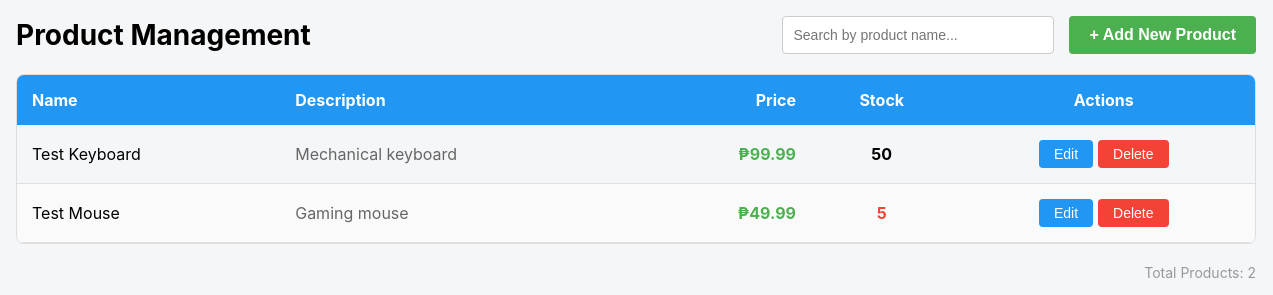
Test: ProductManagement Component › search filters products by name
This screenshot has width=1273, height=295.
Expected: the text "Test Keyboard" is shown, [17, 125, 280, 184]
Expected: the text "Test Mouse" is shown, [17, 184, 280, 242]
Note: Search for "Keyboard"
Step 1. Type "Keyboard" into the field with placeholder "Search by product name..." → x=918, y=35, box [782, 16, 1054, 54]
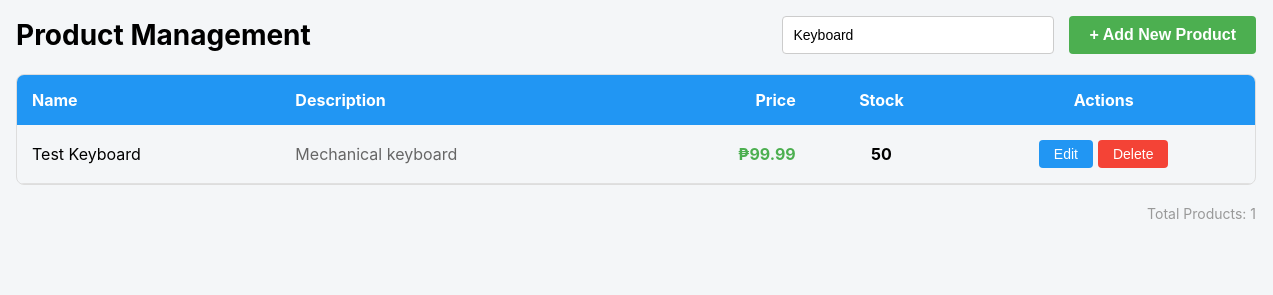
Expected: the text "Test Keyboard" is shown, [17, 125, 280, 184]
Result: the text "Test Mouse" is gone
